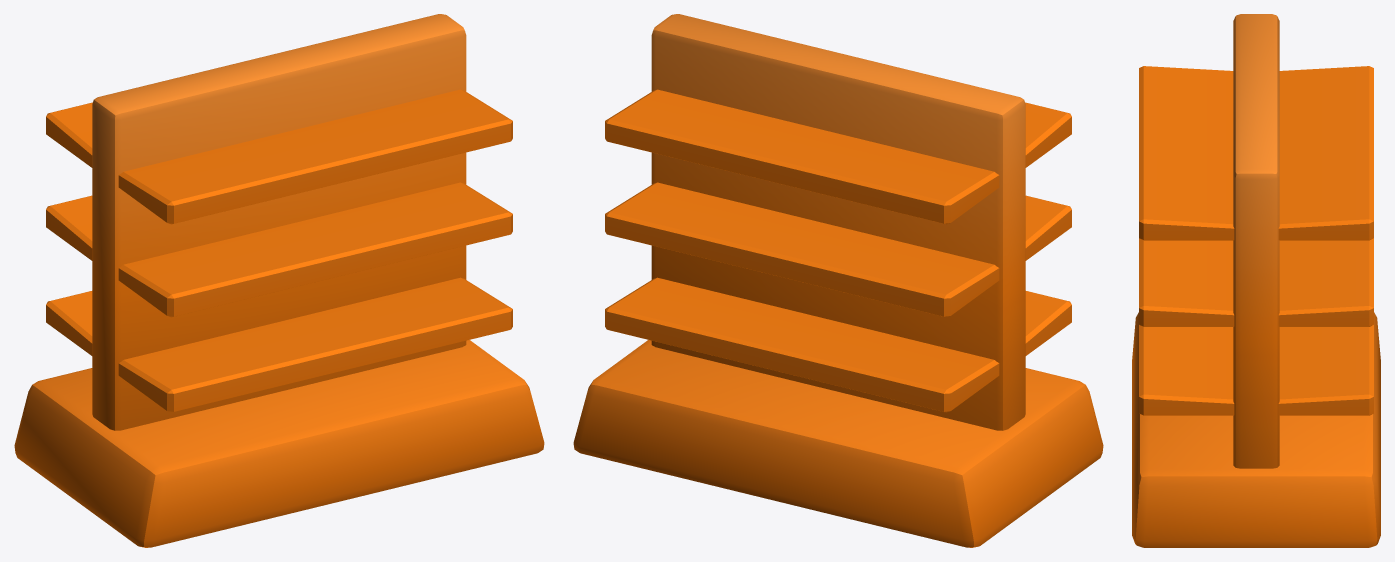
The model's file is Kitchen_Rack_02_C03.fbx.
The picture shows the model from 3 angles, left to right: view 1: azimuth 30°, elevation 25°; view 2: azimuth 150°, elevation 25°; view 3: azimuth 270°, elevation 25°; orthographic projection. The views are drawn at different scales.
Visible parts, largest first — view 1: Kitchen_Rack_02_C03; view 2: Kitchen_Rack_02_C03; view 3: Kitchen_Rack_02_C03.
Boxes of the visible parts, bbox=[...] form: Kitchen_Rack_02_C03: bbox=[14, 14, 544, 547]; Kitchen_Rack_02_C03: bbox=[573, 14, 1103, 547]; Kitchen_Rack_02_C03: bbox=[1132, 14, 1380, 547].
Bounding box in the file's own units: 200 × 185 × 114.
